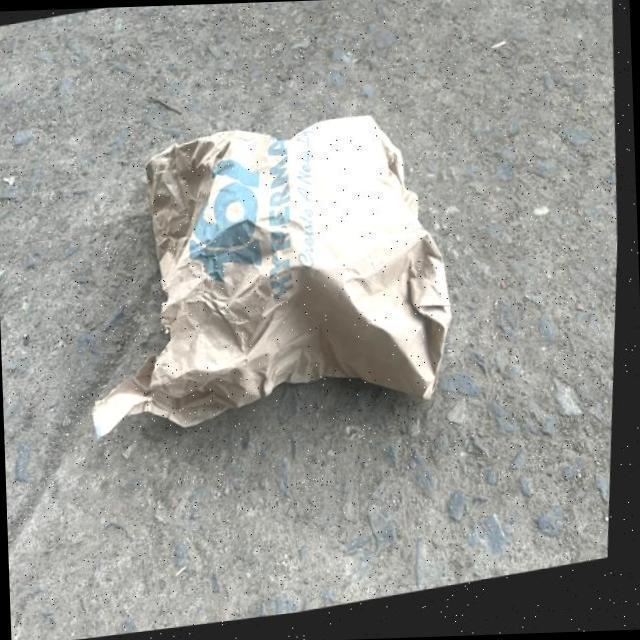Paper_Bag: (76, 102, 475, 472)
